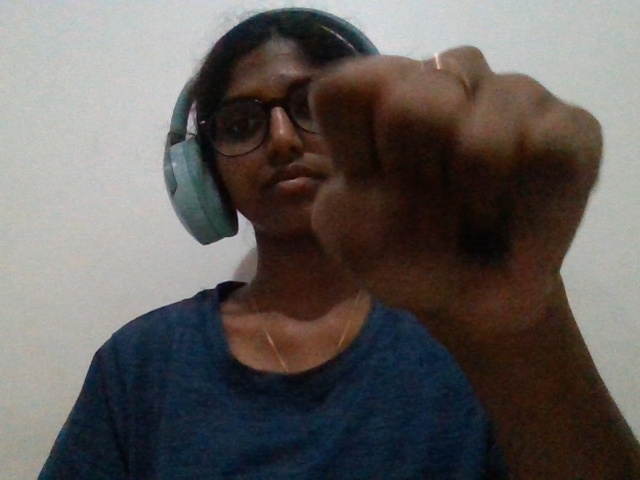Yes: (289, 27, 621, 394)
